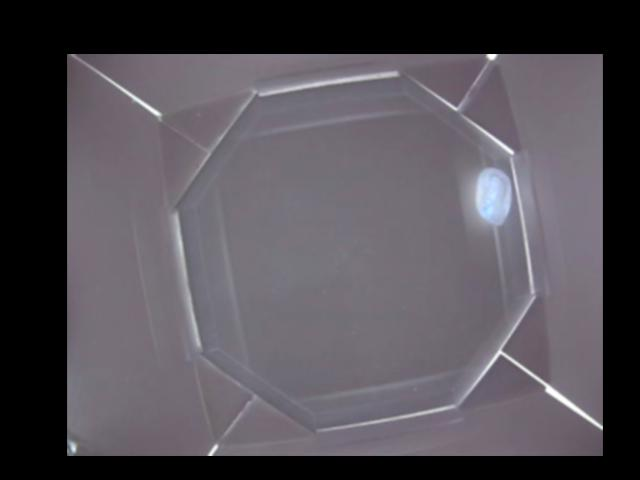Pebble: (475, 167, 509, 226)
